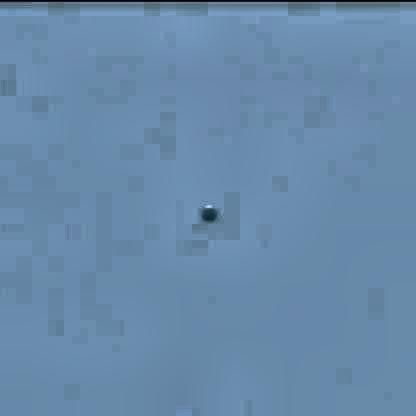golfball: (197, 199, 216, 221)
